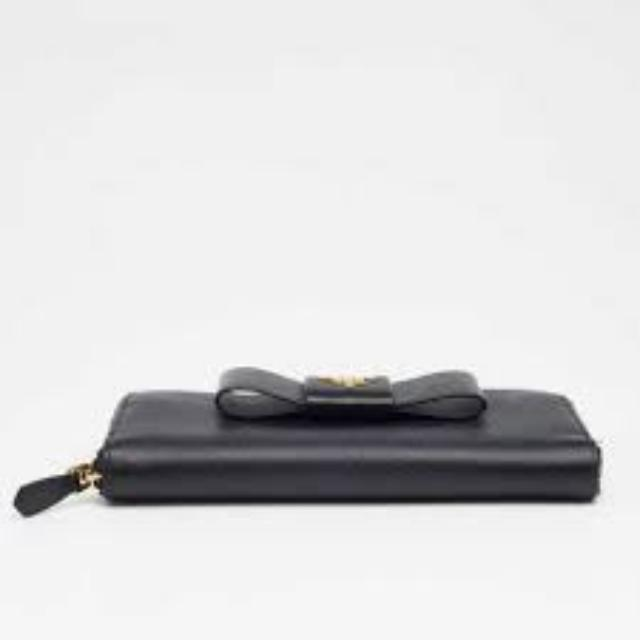wallet: (63, 366, 599, 576)
